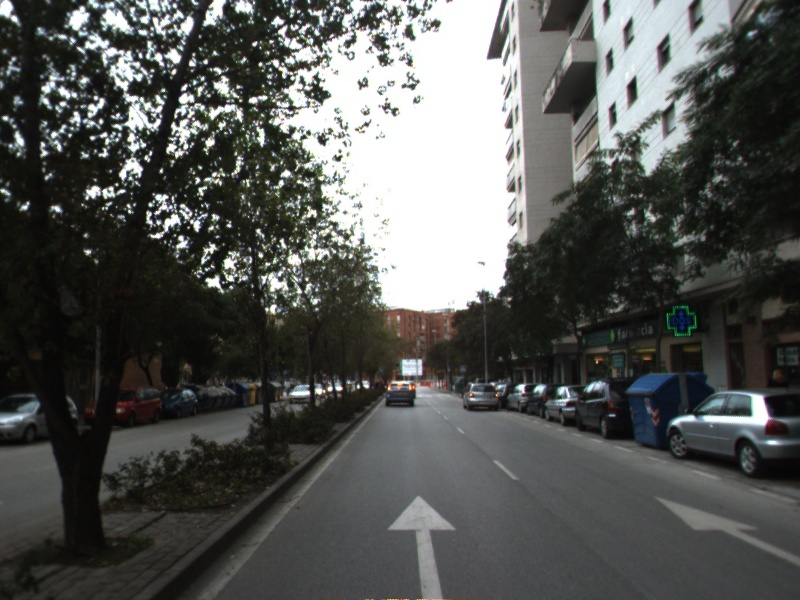STRAIGHT: (649, 492, 800, 564), (385, 492, 458, 600)
